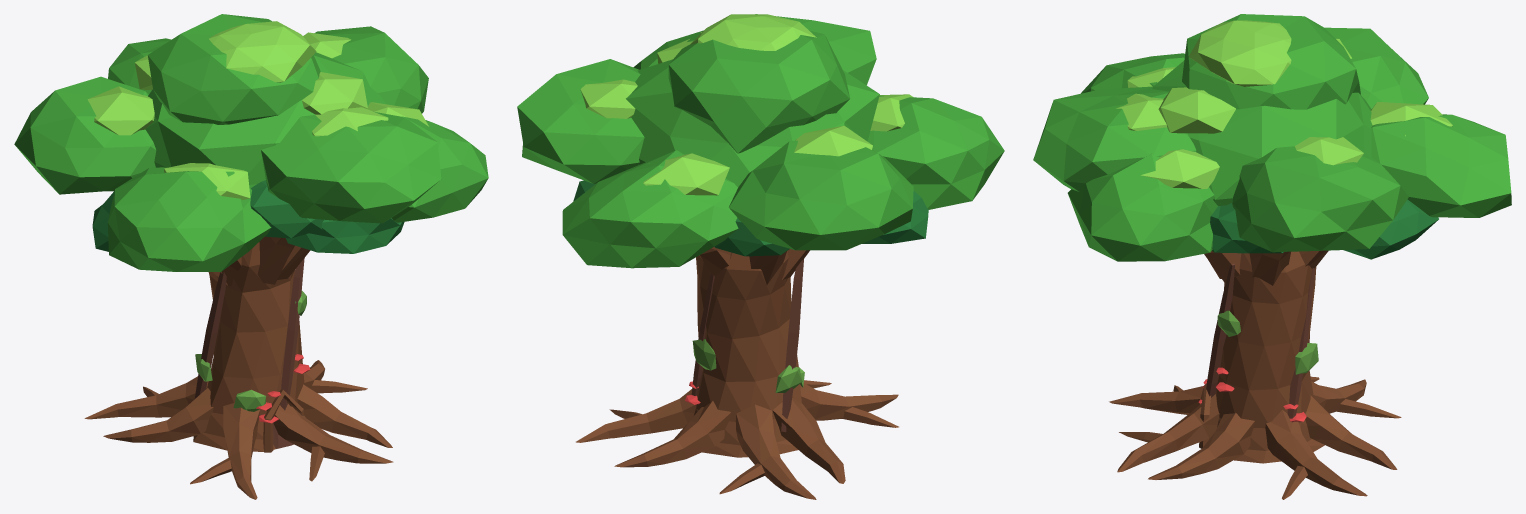
Rendered from Plains_3_AncientTree.fbx.
3 renders of one model, left to right at view 1: azimuth 30°, elevation 25°; view 2: azimuth 150°, elevation 25°; view 3: azimuth 270°, elevation 25°, orthographic.
Parts seen in each view (by area): view 1: Plains_3_AncientTree__Plains_Leaf, Plains_3_AncientTree__Plains_Trunk, Plains_3_AncientTree__Plains_GrassLight, Plains_3_AncientTree__Plains_LeafDark, Plains_3_AncientTree__Plains_MountainDark, Plains_3_AncientTree__Plains_Moss; view 2: Plains_3_AncientTree__Plains_Leaf, Plains_3_AncientTree__Plains_Trunk, Plains_3_AncientTree__Plains_GrassLight, Plains_3_AncientTree__Plains_LeafDark, Plains_3_AncientTree__Plains_MountainDark, Plains_3_AncientTree__Plains_Moss; view 3: Plains_3_AncientTree__Plains_Leaf, Plains_3_AncientTree__Plains_Trunk, Plains_3_AncientTree__Plains_GrassLight, Plains_3_AncientTree__Plains_LeafDark, Plains_3_AncientTree__Plains_MountainDark, Plains_3_AncientTree__Plains_Moss.
Part boxes in pixels (x1,y1,x2,y2): Plains_3_AncientTree__Plains_Leaf: [14, 14, 488, 271]; Plains_3_AncientTree__Plains_Trunk: [84, 236, 393, 499]; Plains_3_AncientTree__Plains_GrassLight: [87, 21, 428, 199]; Plains_3_AncientTree__Plains_LeafDark: [92, 180, 404, 253]; Plains_3_AncientTree__Plains_MountainDark: [194, 258, 304, 448]; Plains_3_AncientTree__Plains_Moss: [195, 290, 306, 411]; Plains_3_AncientTree__Plains_Leaf: [517, 14, 1004, 268]; Plains_3_AncientTree__Plains_Trunk: [576, 247, 898, 499]; Plains_3_AncientTree__Plains_GrassLight: [580, 14, 913, 195]; Plains_3_AncientTree__Plains_LeafDark: [573, 180, 928, 256]; Plains_3_AncientTree__Plains_MountainDark: [691, 259, 803, 432]; Plains_3_AncientTree__Plains_Moss: [692, 339, 804, 392]; Plains_3_AncientTree__Plains_Leaf: [1033, 14, 1511, 261]; Plains_3_AncientTree__Plains_Trunk: [1109, 250, 1401, 499]; Plains_3_AncientTree__Plains_GrassLight: [1116, 20, 1452, 189]; Plains_3_AncientTree__Plains_LeafDark: [1210, 199, 1438, 259]; Plains_3_AncientTree__Plains_MountainDark: [1206, 264, 1315, 422]; Plains_3_AncientTree__Plains_Moss: [1217, 310, 1318, 374].
Bounding box in the file's own units: 118 × 118 × 127.
